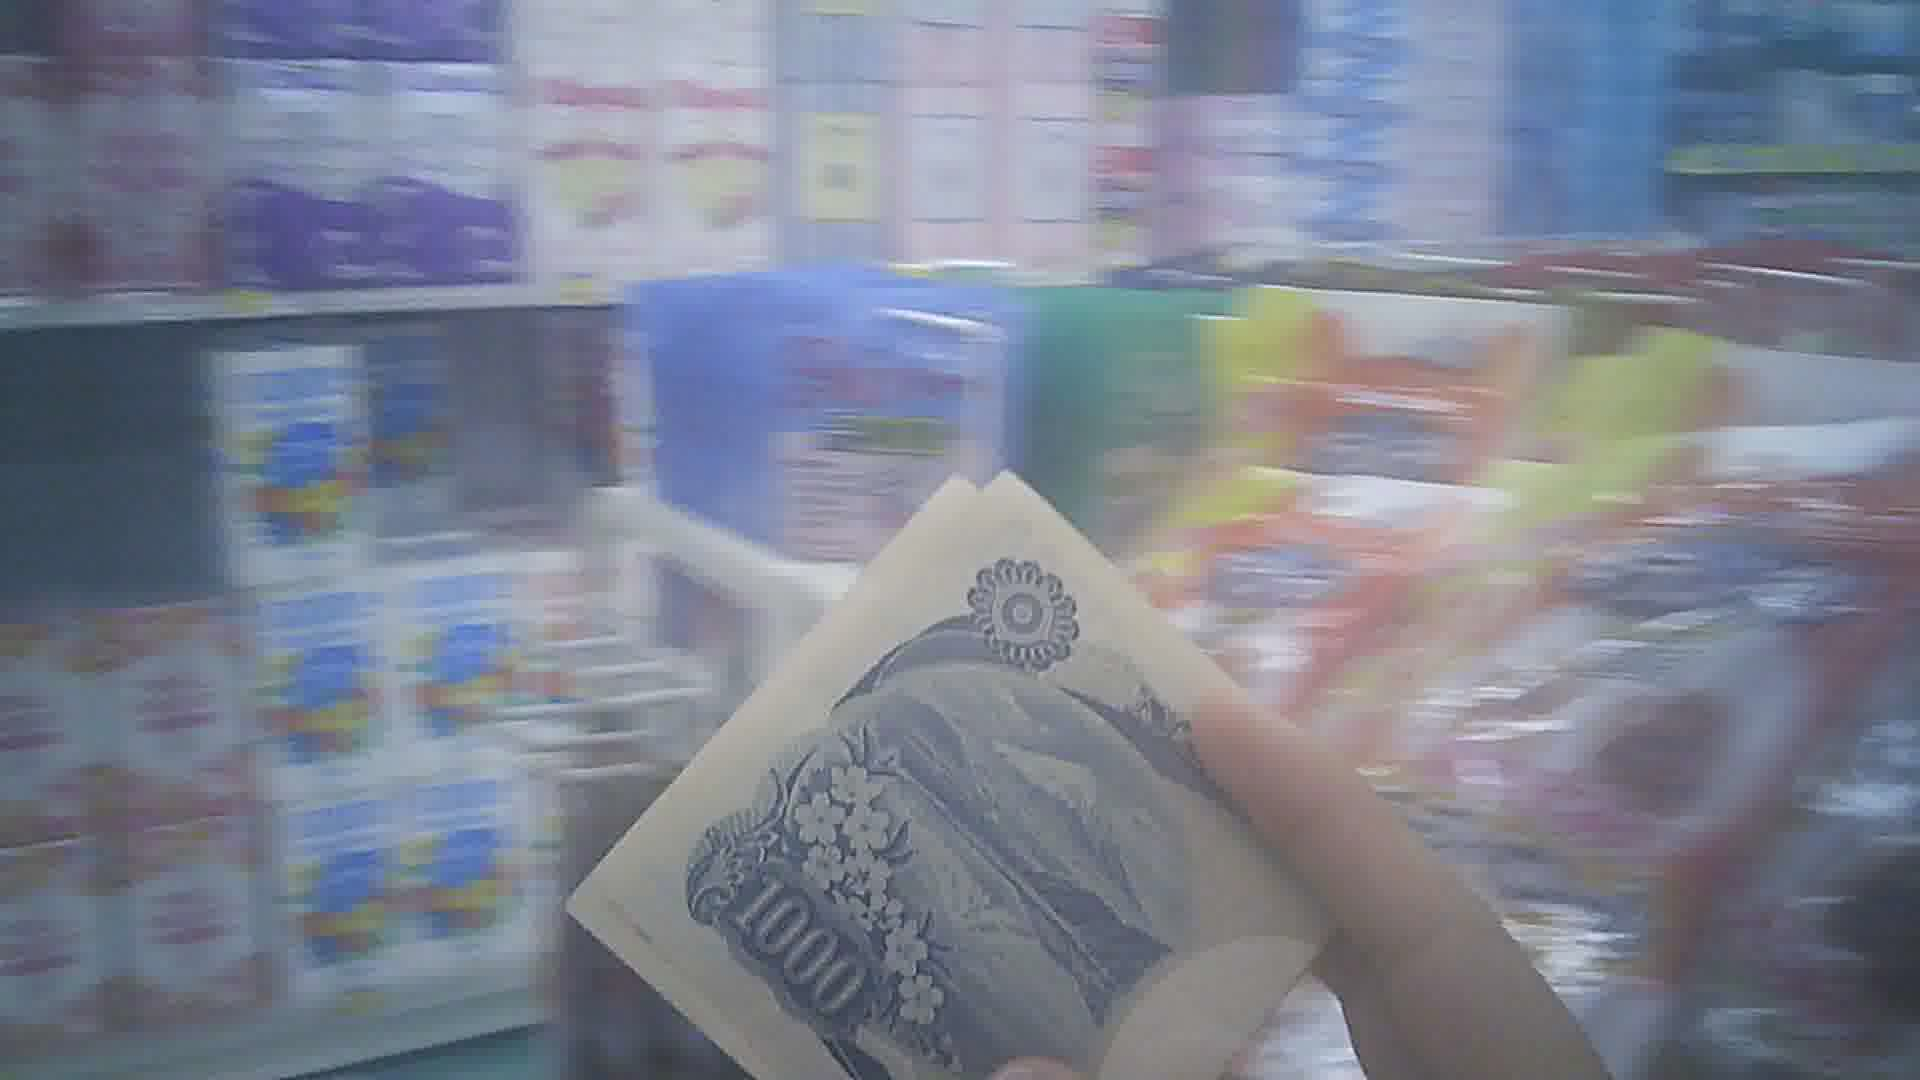1,000 Yen: (600, 471, 1356, 1079)
